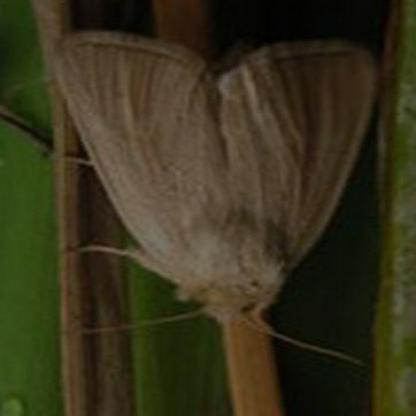stem-borer: (49, 27, 376, 367)
